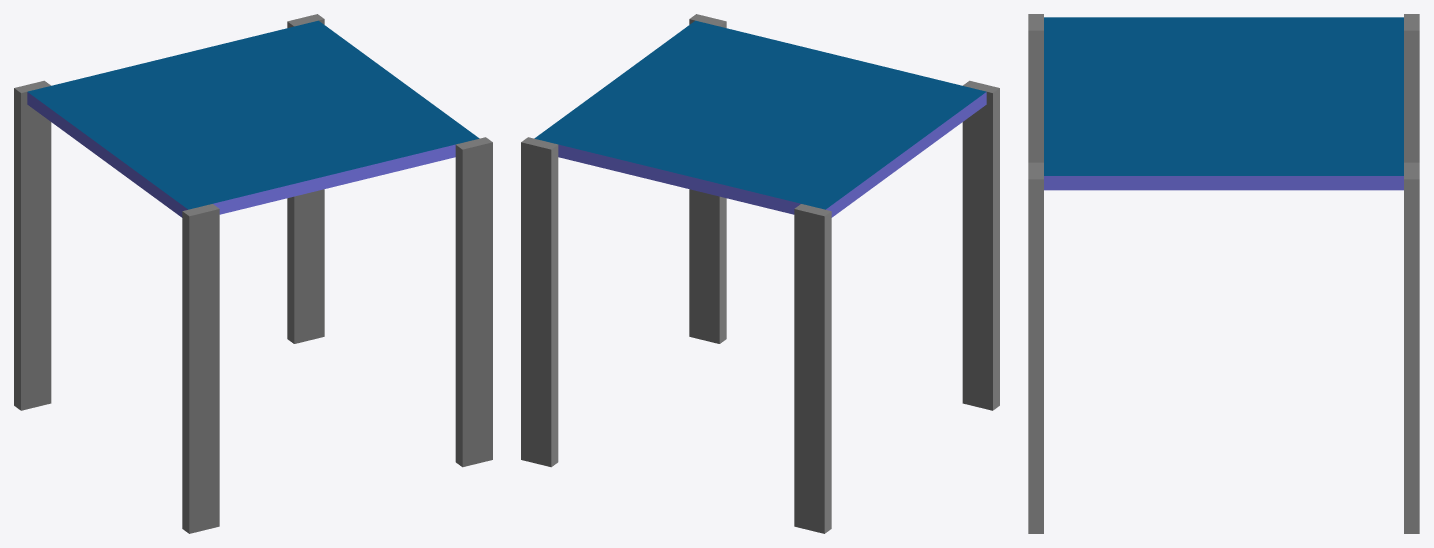
Rendered from elevator.fbx.
3 views of the same model, side by side, from view 1: azimuth 30°, elevation 25°; view 2: azimuth 150°, elevation 25°; view 3: azimuth 270°, elevation 25° (orthographic). The views are drawn at different scales.
Parts seen in each view (by area): view 1: elevator_trigger, elevator_frame; view 2: elevator_trigger, elevator_frame; view 3: elevator_trigger, elevator_frame.
Boxes of the visible parts, bbox=[...] form: elevator_trigger: bbox=[27, 20, 479, 217]; elevator_frame: bbox=[14, 14, 492, 533]; elevator_trigger: bbox=[534, 20, 986, 217]; elevator_frame: bbox=[521, 14, 999, 533]; elevator_trigger: bbox=[1044, 17, 1403, 190]; elevator_frame: bbox=[1028, 14, 1419, 533].
Size of the model in its own units: 500 by 500 by 500.
